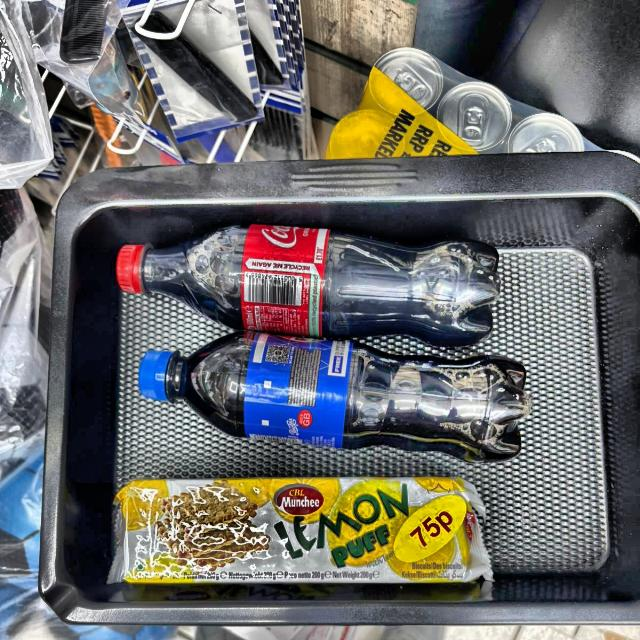coke-bottle: (94, 230, 502, 342)
lemon puff: (116, 468, 494, 604)
pepsi-bottle: (126, 334, 530, 461)
